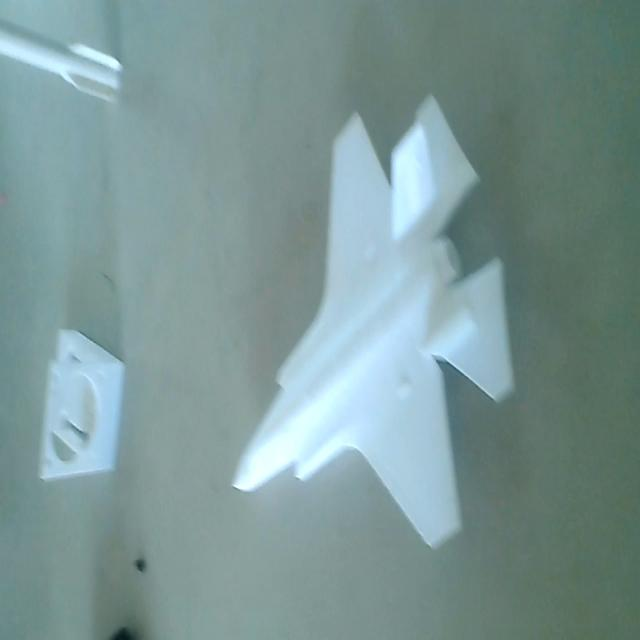Jet: (232, 89, 518, 570)
Rocket: (0, 10, 126, 121)
